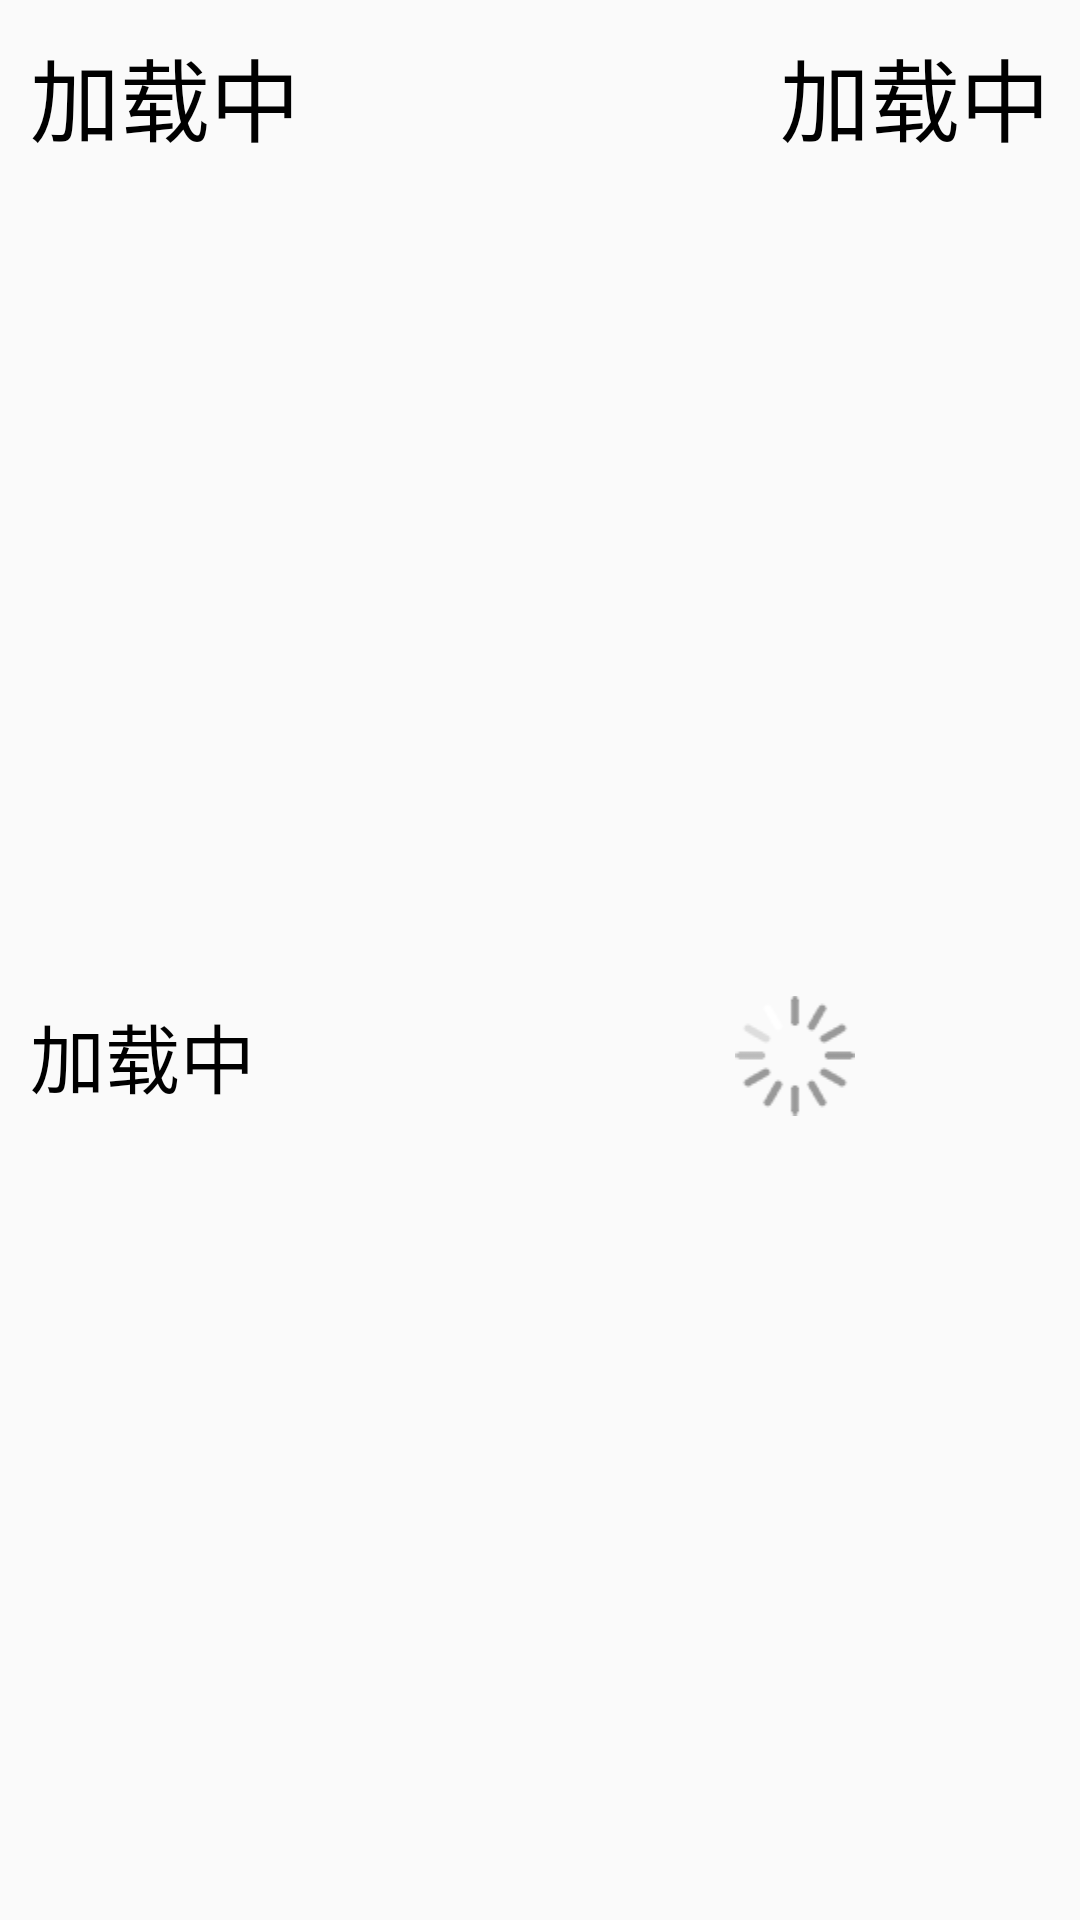

Where icons sit on this 1080 × 1920 app screen, as bbox=[x1, y1, x2, y2]:
loading: bbox=[735, 996, 855, 1116]
